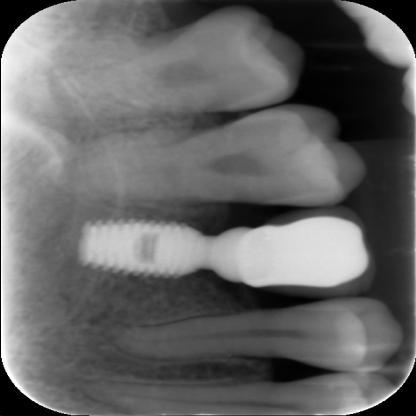Bicon: (74, 213, 224, 291)
